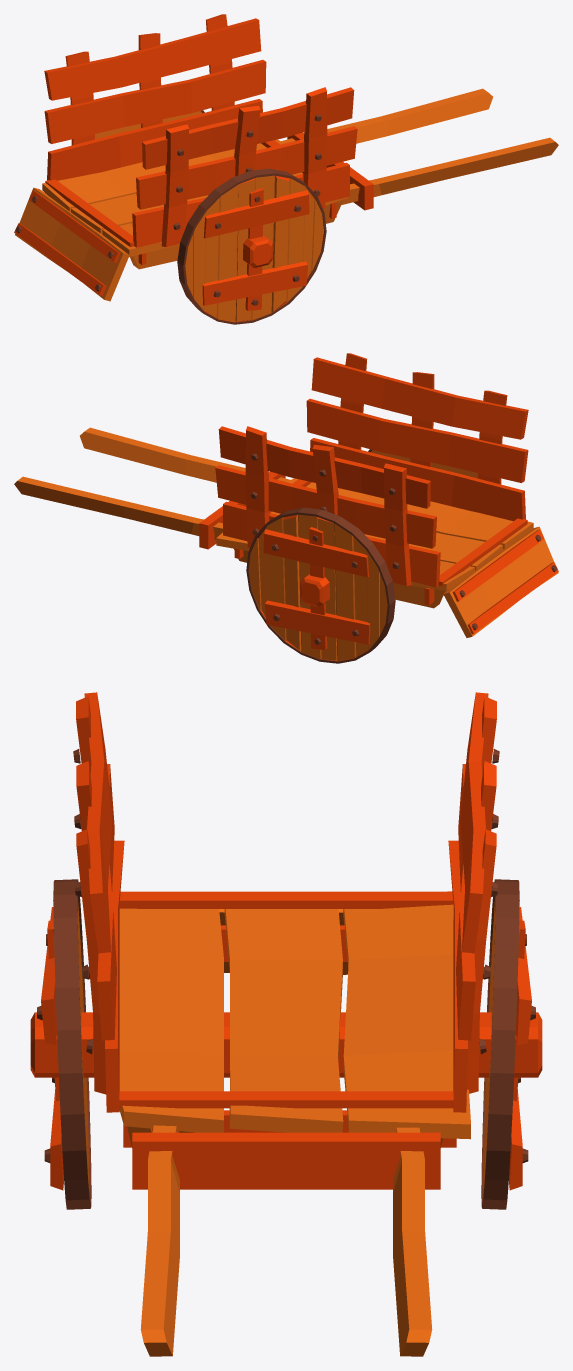
File: wagon3.glb
The picture shows the model from 3 angles, top to bottom: view 1: azimuth 30°, elevation 25°; view 2: azimuth 150°, elevation 25°; view 3: azimuth 270°, elevation 25°; orthographic projection. The views are drawn at different scales.
Visible parts, largest first — view 1: Wagon3; view 2: Wagon3; view 3: Wagon3.
Part boxes in pixels (x1=…): Wagon3: x1=14, y1=14, x2=558, y2=324; Wagon3: x1=14, y1=353, x2=558, y2=663; Wagon3: x1=30, y1=692, x2=542, y2=1356.
Size of what is drawn, in the model's own units: 2.7 by 1.18 by 1.28.
1 material, 1 textured.
